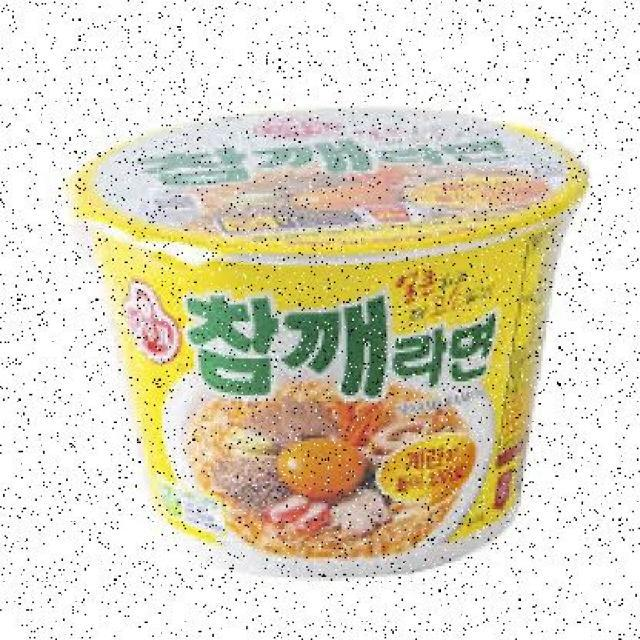Miscellaneous: (56, 97, 598, 580)
